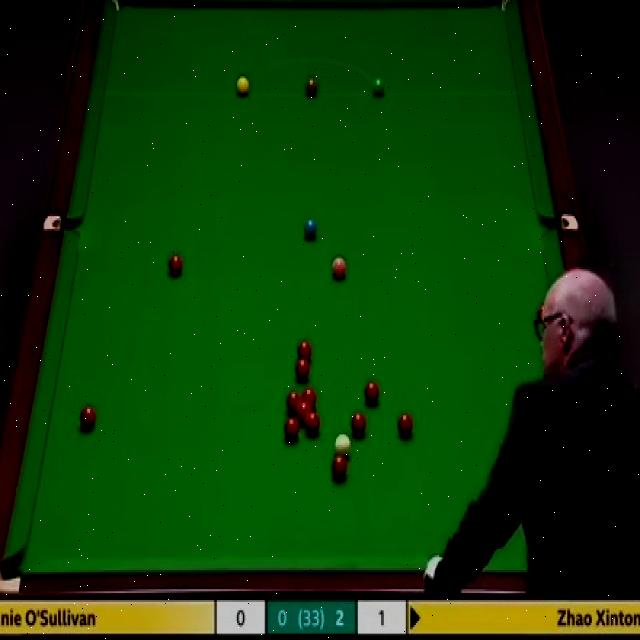blue-ball: (302, 217, 318, 241)
brown-ball: (305, 76, 318, 97)
green-ball: (371, 76, 385, 97)
pink-ball: (328, 257, 349, 286)
red-ball: (329, 455, 348, 483), (78, 405, 96, 430), (363, 380, 381, 405), (397, 414, 414, 439), (350, 412, 366, 438), (167, 255, 185, 278), (295, 359, 311, 382), (285, 394, 302, 415), (304, 414, 320, 436), (301, 387, 317, 408), (284, 418, 299, 440), (296, 344, 312, 363), (297, 402, 311, 422)
white-ball: (333, 435, 352, 462)
yellow-ball: (237, 77, 250, 97)
